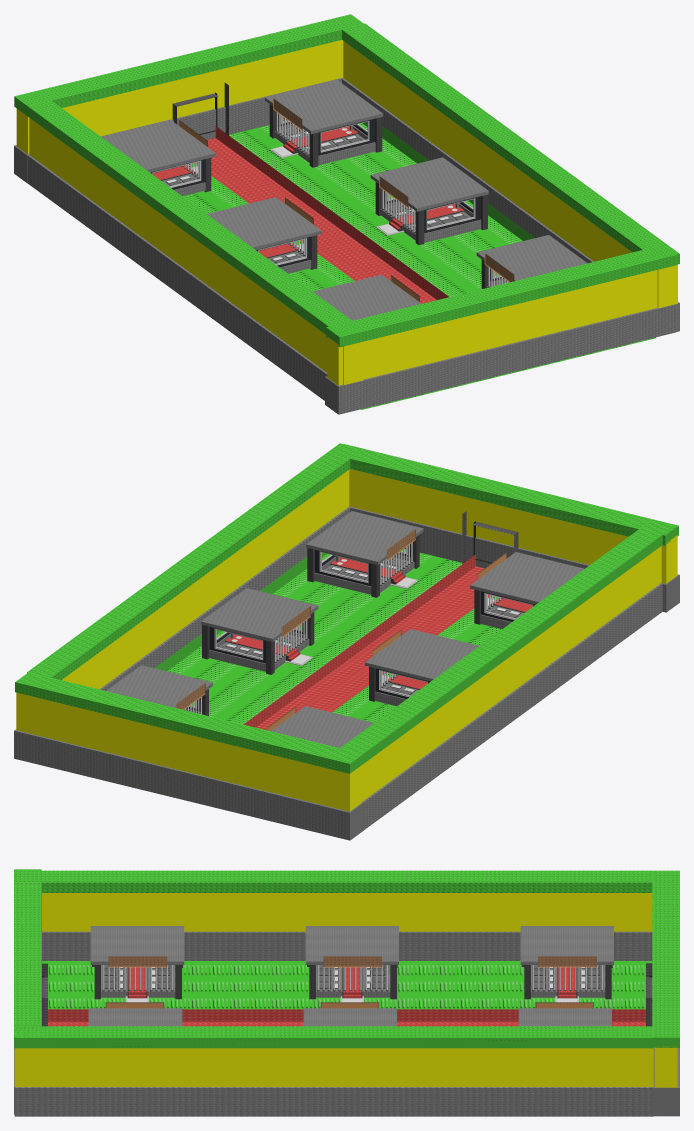
File: map.glb
The picture shows the model from 3 angles, top to bottom: view 1: azimuth 30°, elevation 25°; view 2: azimuth 150°, elevation 25°; view 3: azimuth 270°, elevation 25°; orthographic projection. The views are drawn at different scales.
Parts seen in each view (by area): view 1: Map, Base, Base.001; view 2: Map, Base, Base.001; view 3: Map, Base.001, Base.
Part boxes in pixels (box(x1,y1,x2,y2)): Map: box(14, 14, 679, 414); Base: box(265, 80, 587, 288); Base.001: box(101, 119, 421, 320); Map: box(14, 443, 679, 840); Base: box(106, 511, 423, 715); Base.001: box(267, 552, 584, 747); Map: box(14, 869, 679, 1116); Base.001: box(90, 926, 613, 1002); Base: box(88, 1002, 611, 1026).
Size of the model in its own units: 3.21 by 0.7057 by 5.34.
23 materials, 15 textured.
